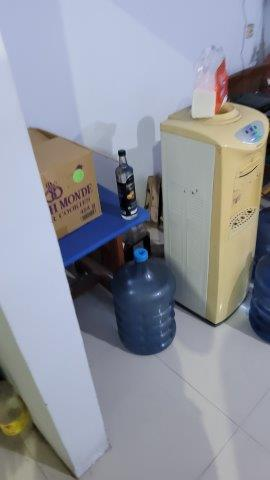botolkaca: (110, 146, 143, 225)
